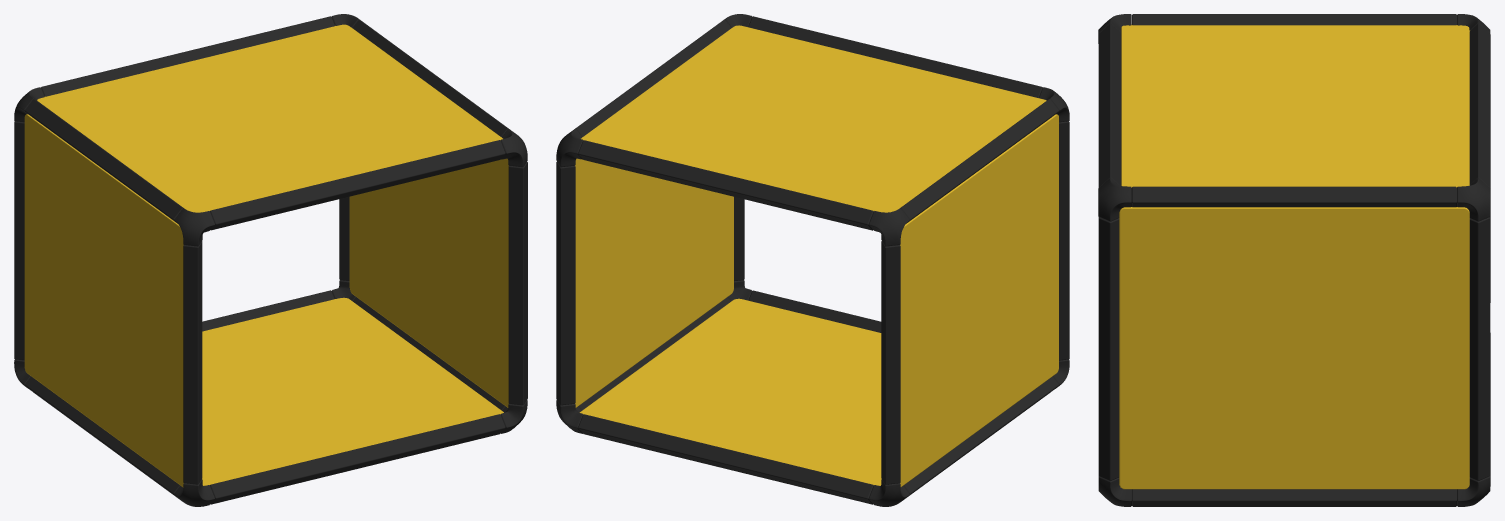
3 views of the same model, side by side, from view 1: azimuth 30°, elevation 25°; view 2: azimuth 150°, elevation 25°; view 3: azimuth 270°, elevation 25° (orthographic). The views are drawn at different scales.
Parts seen in each view (by area): view 1: 420x374x330; view 2: 420x374x330; view 3: 420x374x330.
Part boxes in pixels (x1,y1,x2,y2): 420x374x330: (14,14,527,506); 420x374x330: (556,14,1069,506); 420x374x330: (1098,14,1490,506).
Bounding box in the file's own units: 0.4977 × 0.4065 × 0.4513.
